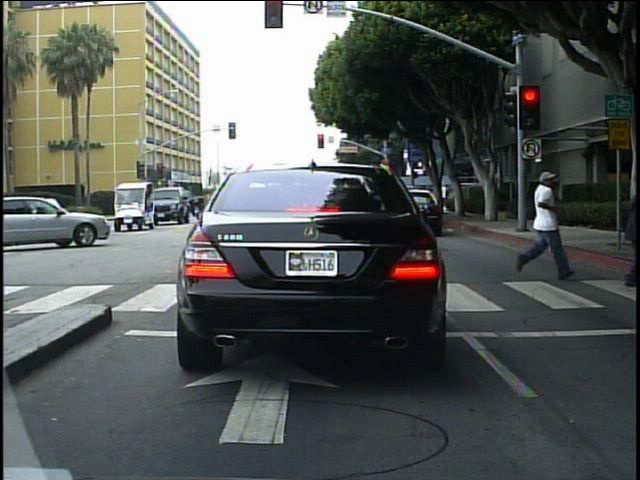person: (519, 167, 568, 285), (626, 166, 638, 294), (438, 179, 453, 213)
